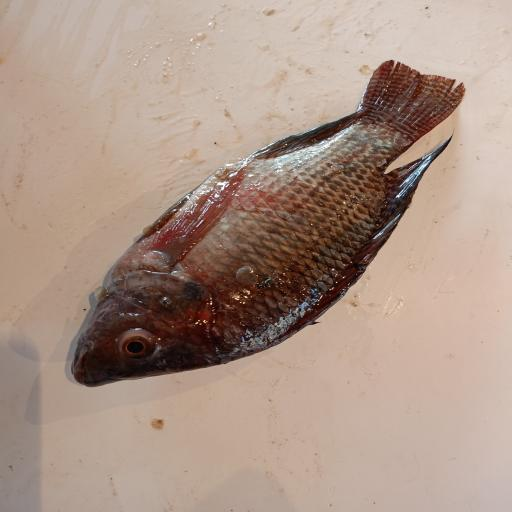Tilapia: (71, 60, 466, 387)
